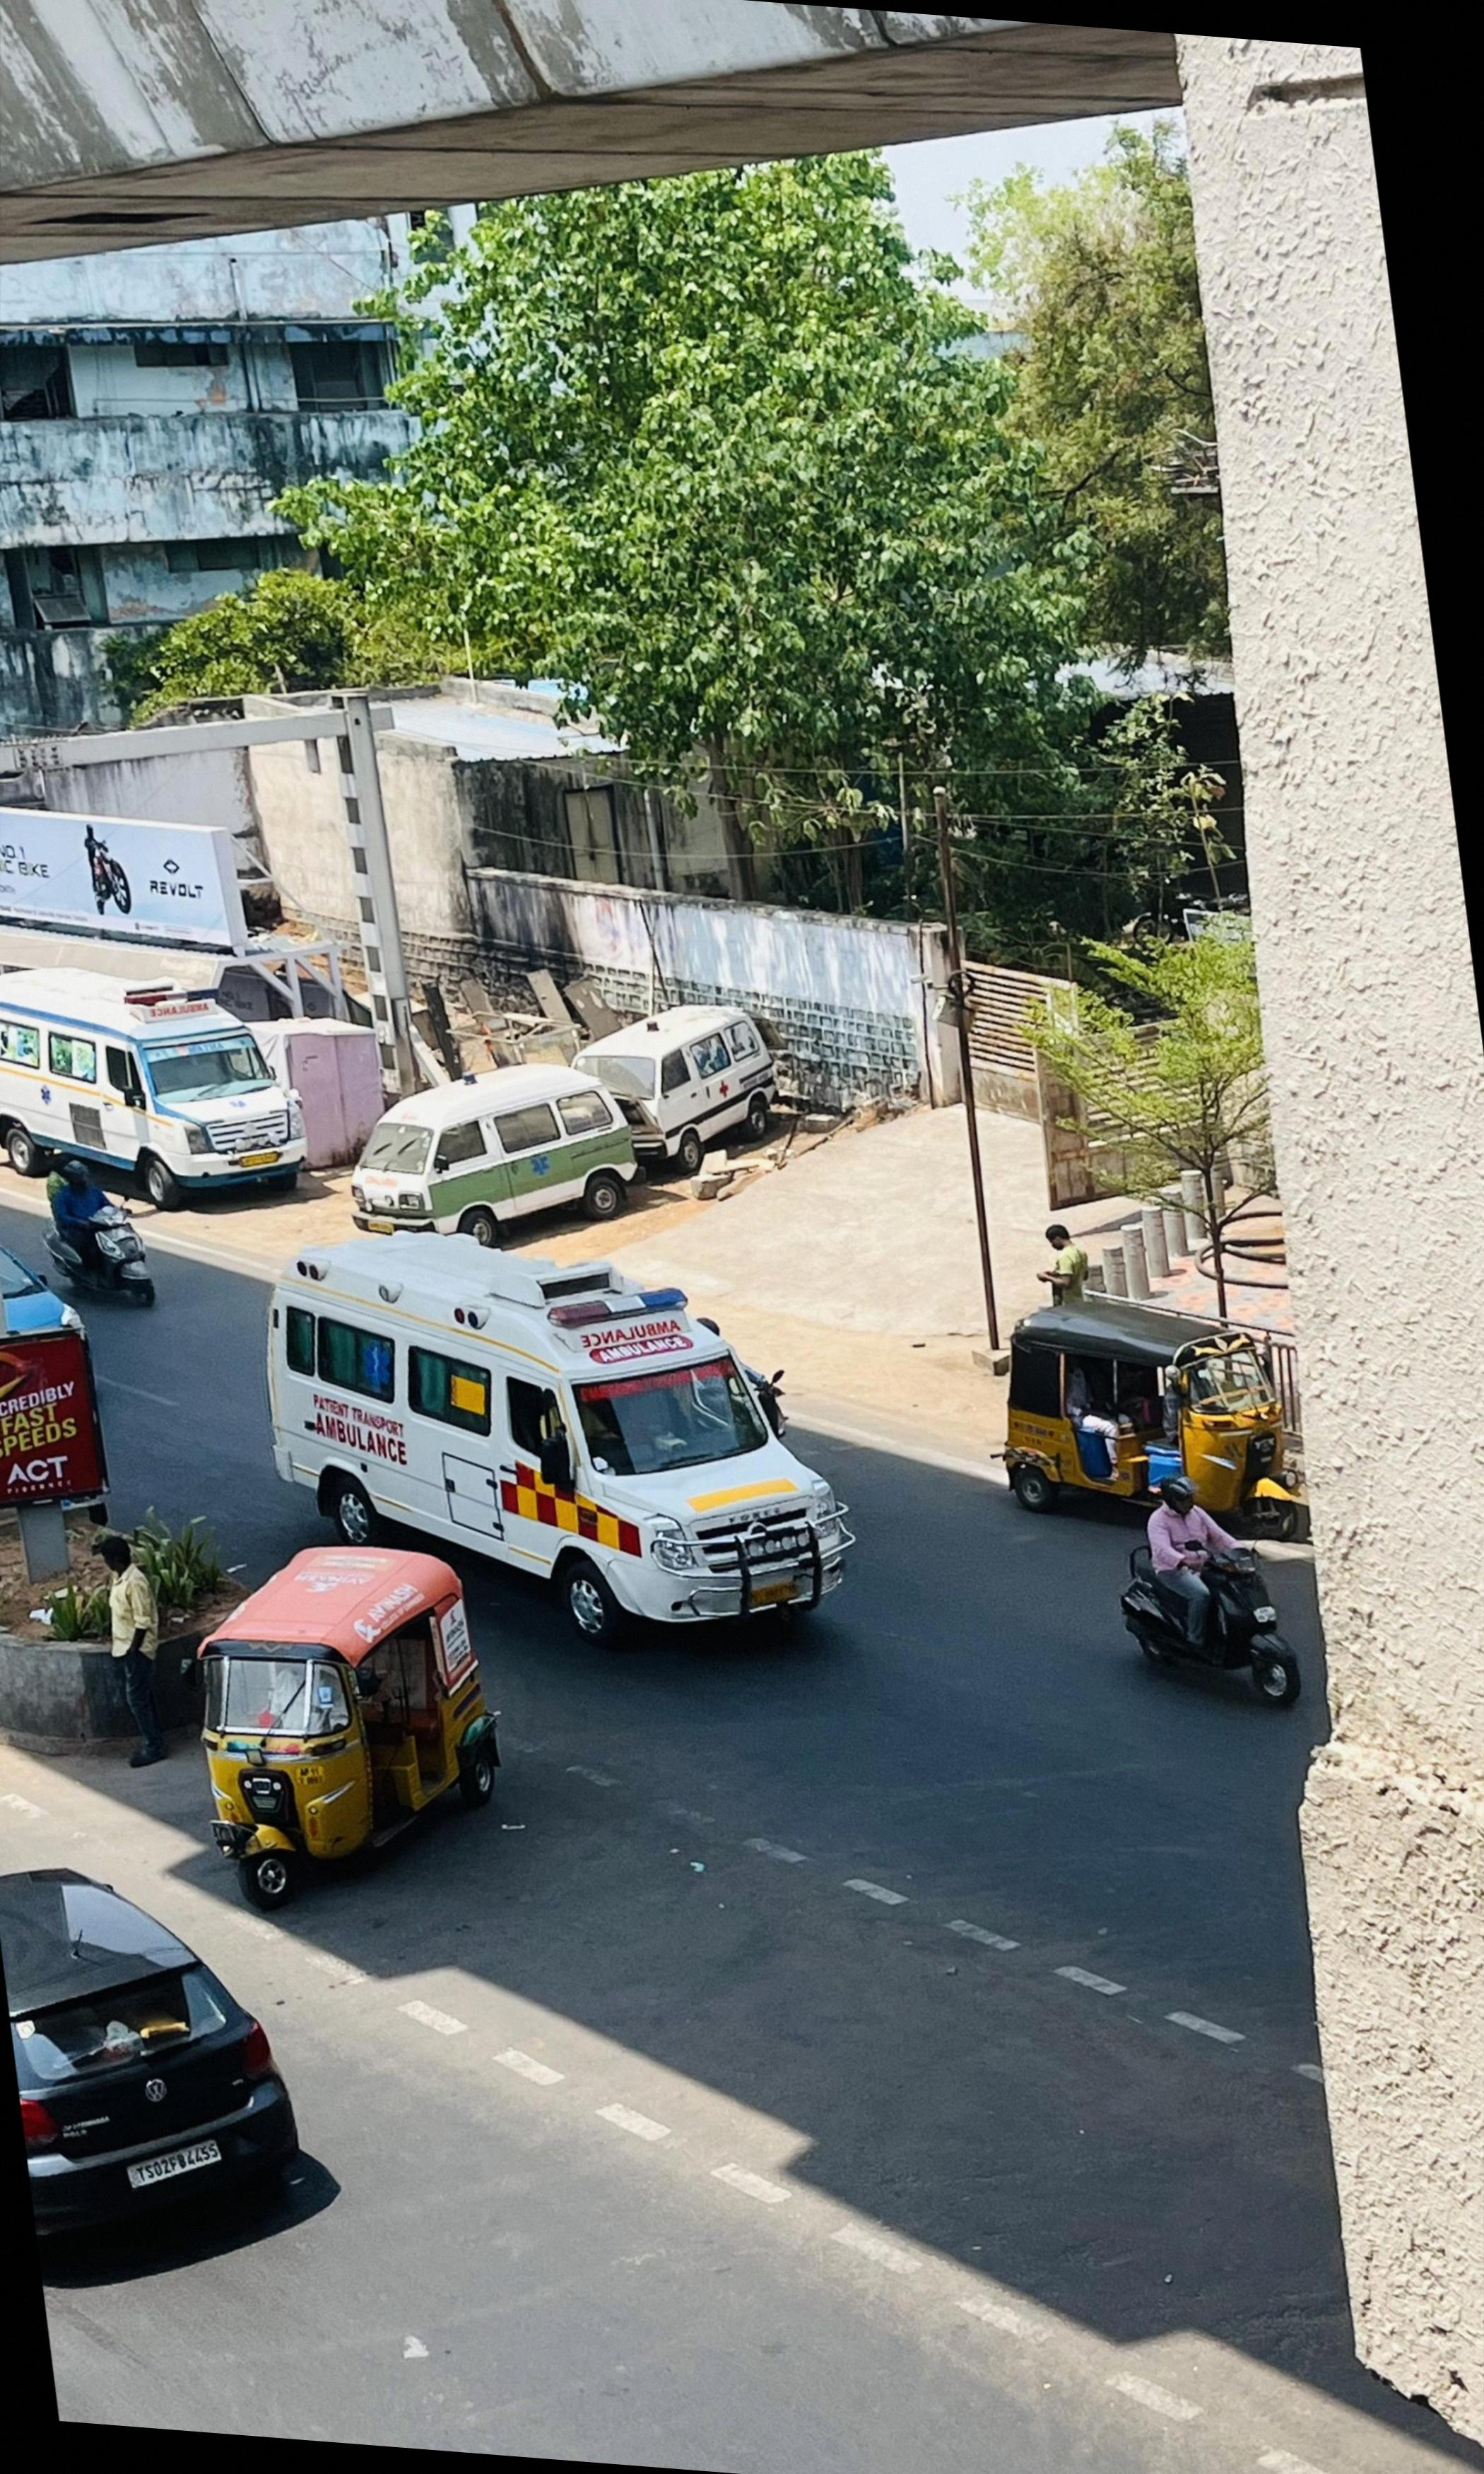ambulance: (265, 1233, 852, 1645)
